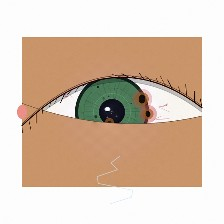foreign_body_visible: (132, 101, 164, 127)
